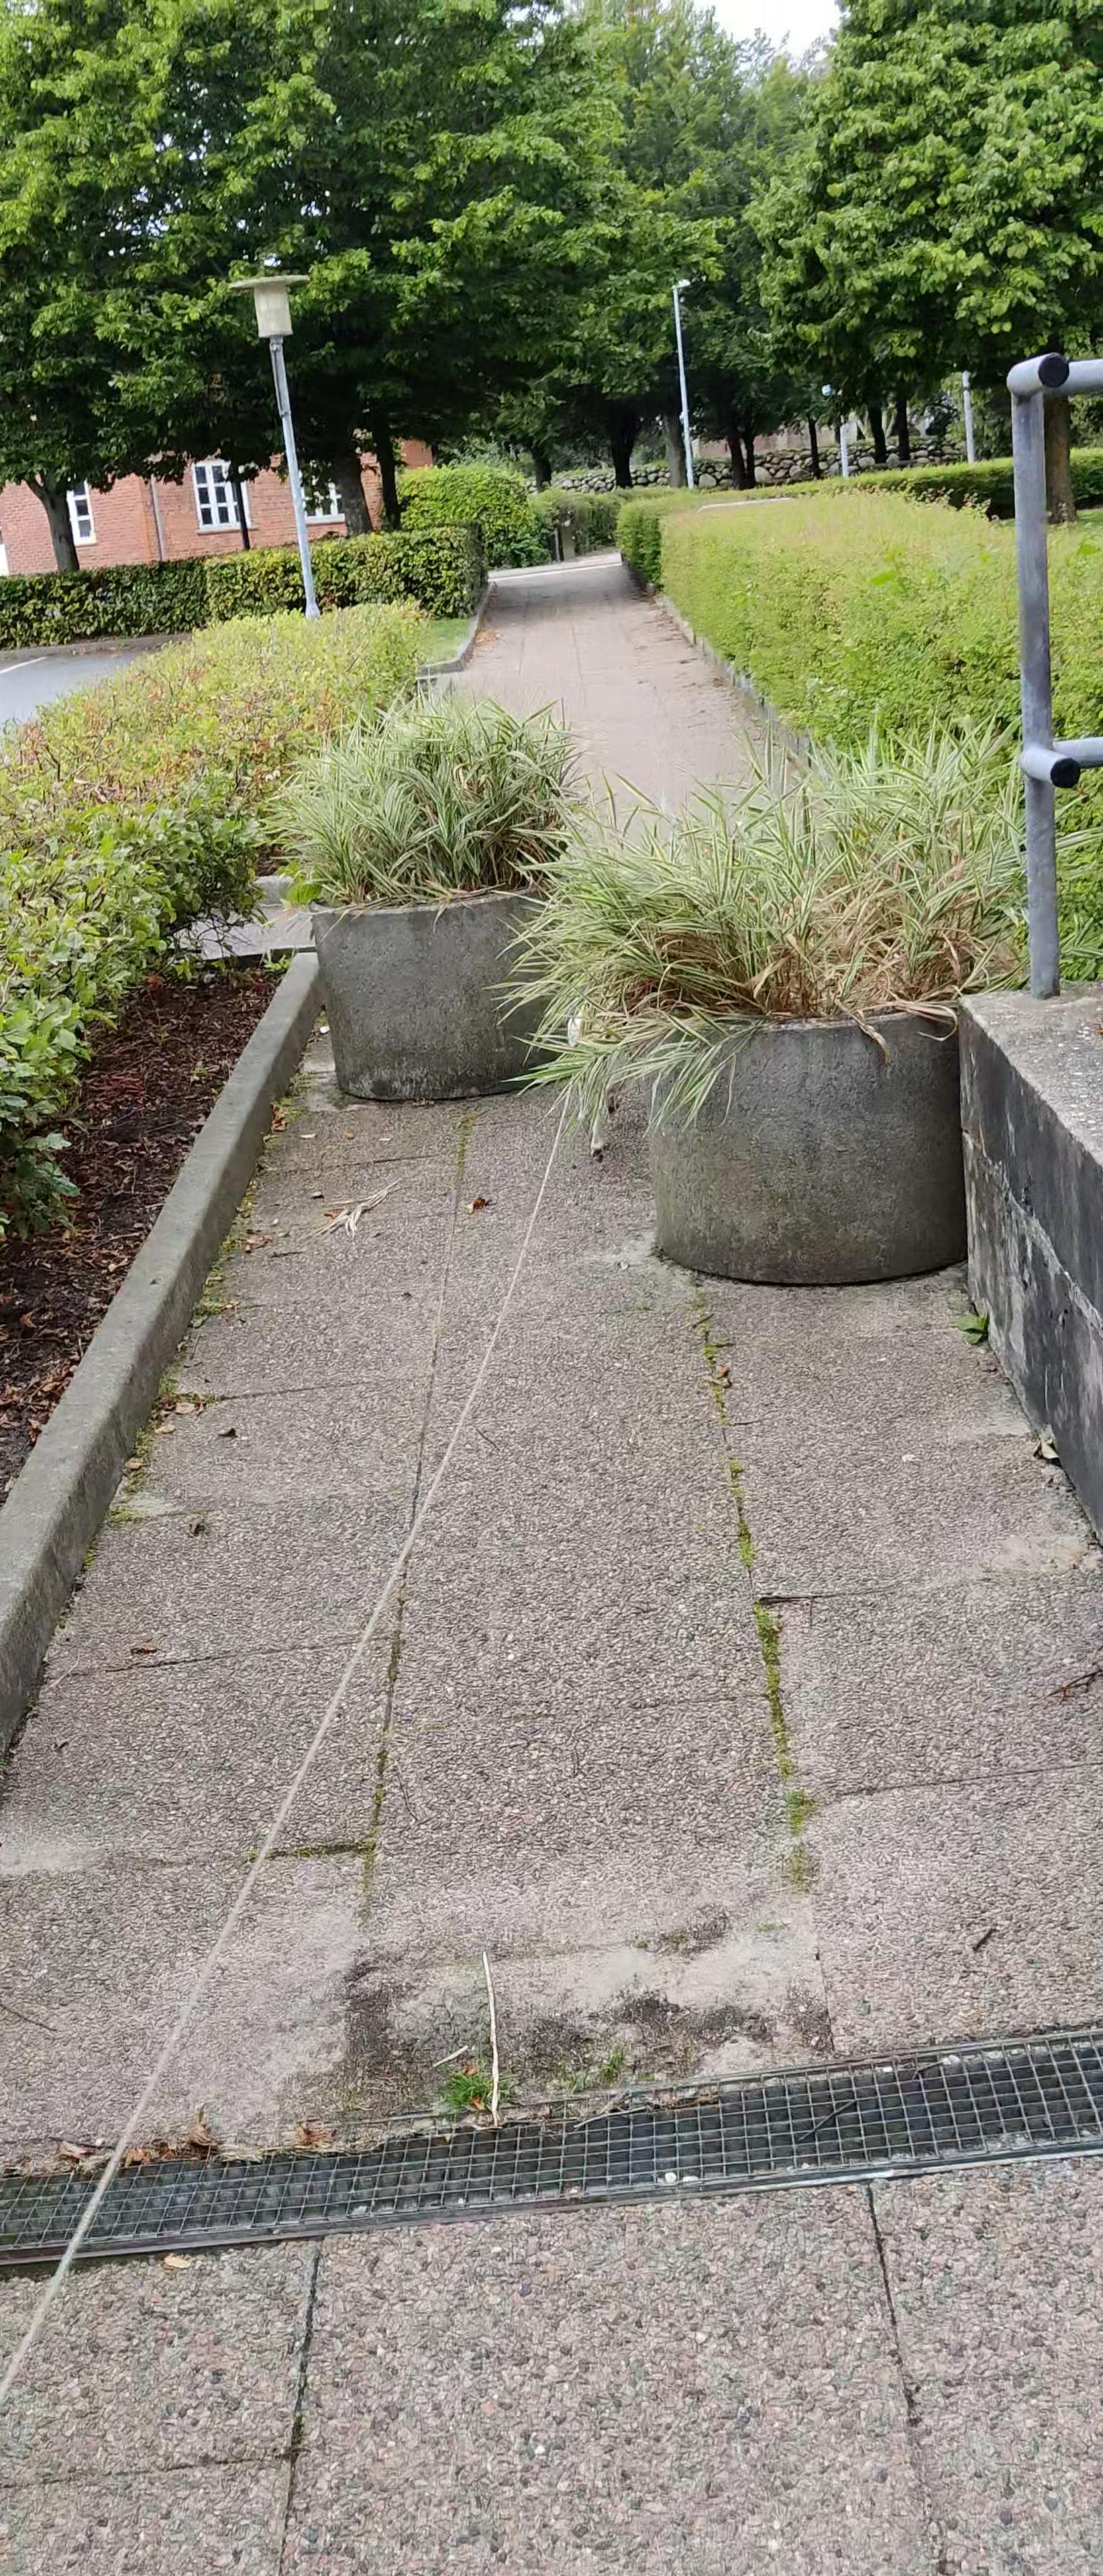Dog: (562, 994, 639, 1163)
